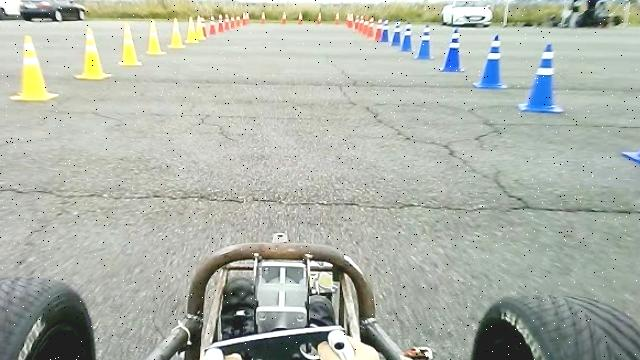blue cone: (518, 42, 565, 113), (474, 33, 508, 88), (439, 26, 466, 72), (414, 23, 436, 60), (402, 22, 414, 52), (390, 21, 402, 45), (380, 20, 390, 43)
yellow cone: (10, 34, 59, 101), (75, 26, 112, 80), (119, 21, 143, 65), (146, 18, 166, 54), (168, 16, 186, 48), (186, 16, 200, 43)
